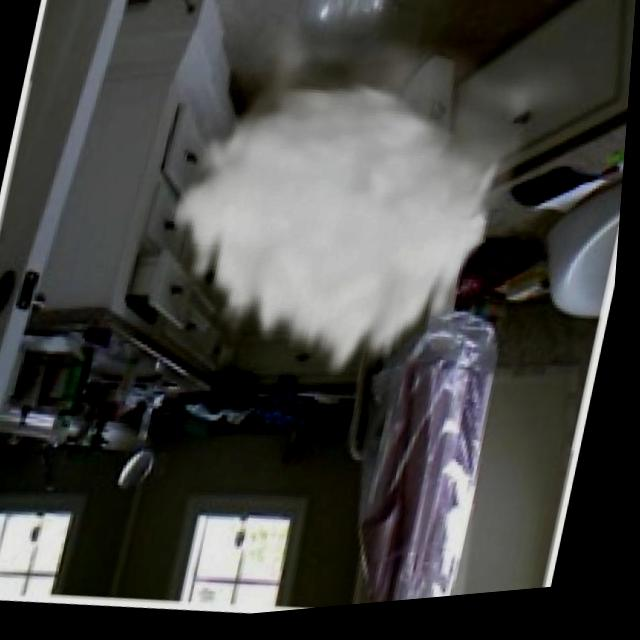Smoke: (141, 7, 604, 404)
